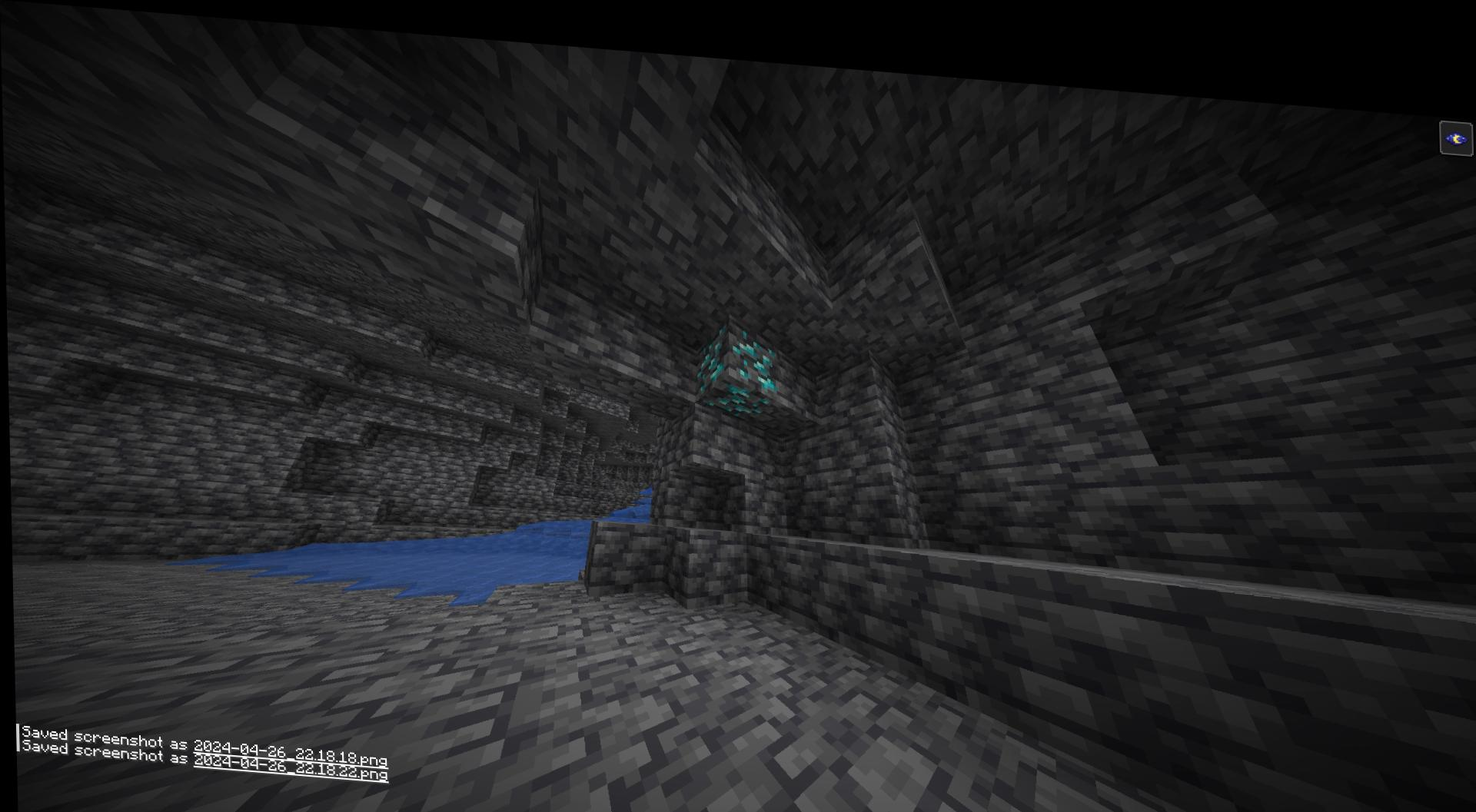diamond ore: (693, 318, 774, 406)
